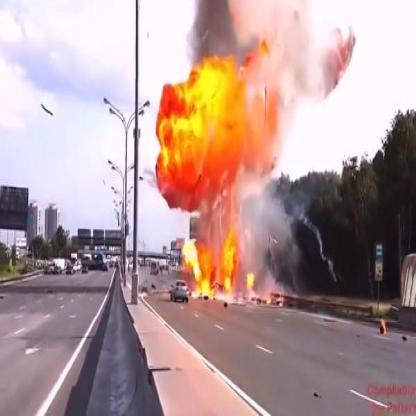fire: (152, 42, 292, 213), (177, 228, 285, 312), (378, 314, 387, 334)
